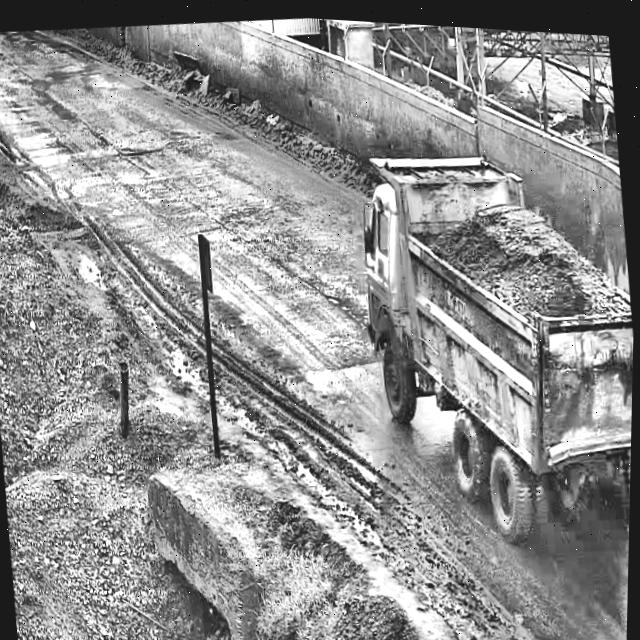dump_truck: (326, 103, 638, 563)
